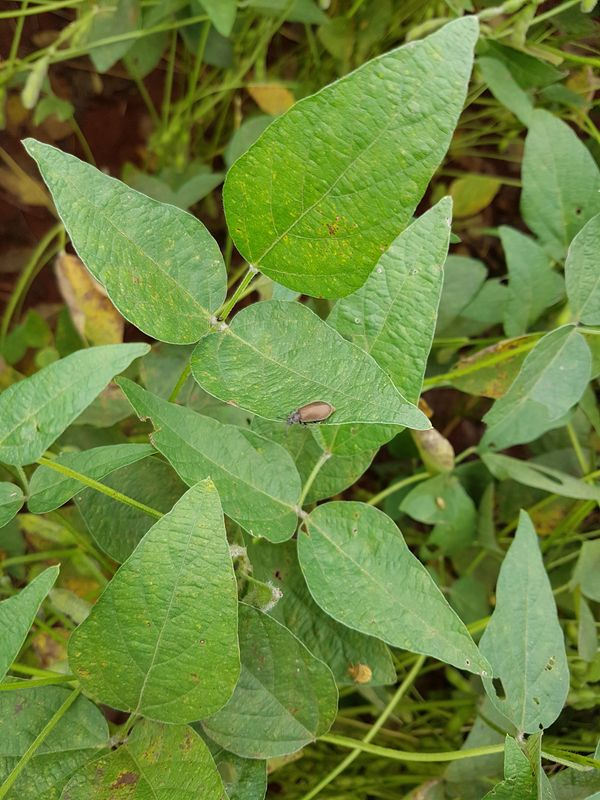Euschistus_heros_ninfa: (342, 659, 375, 689)
Lagria_villosa: (280, 394, 339, 437)
